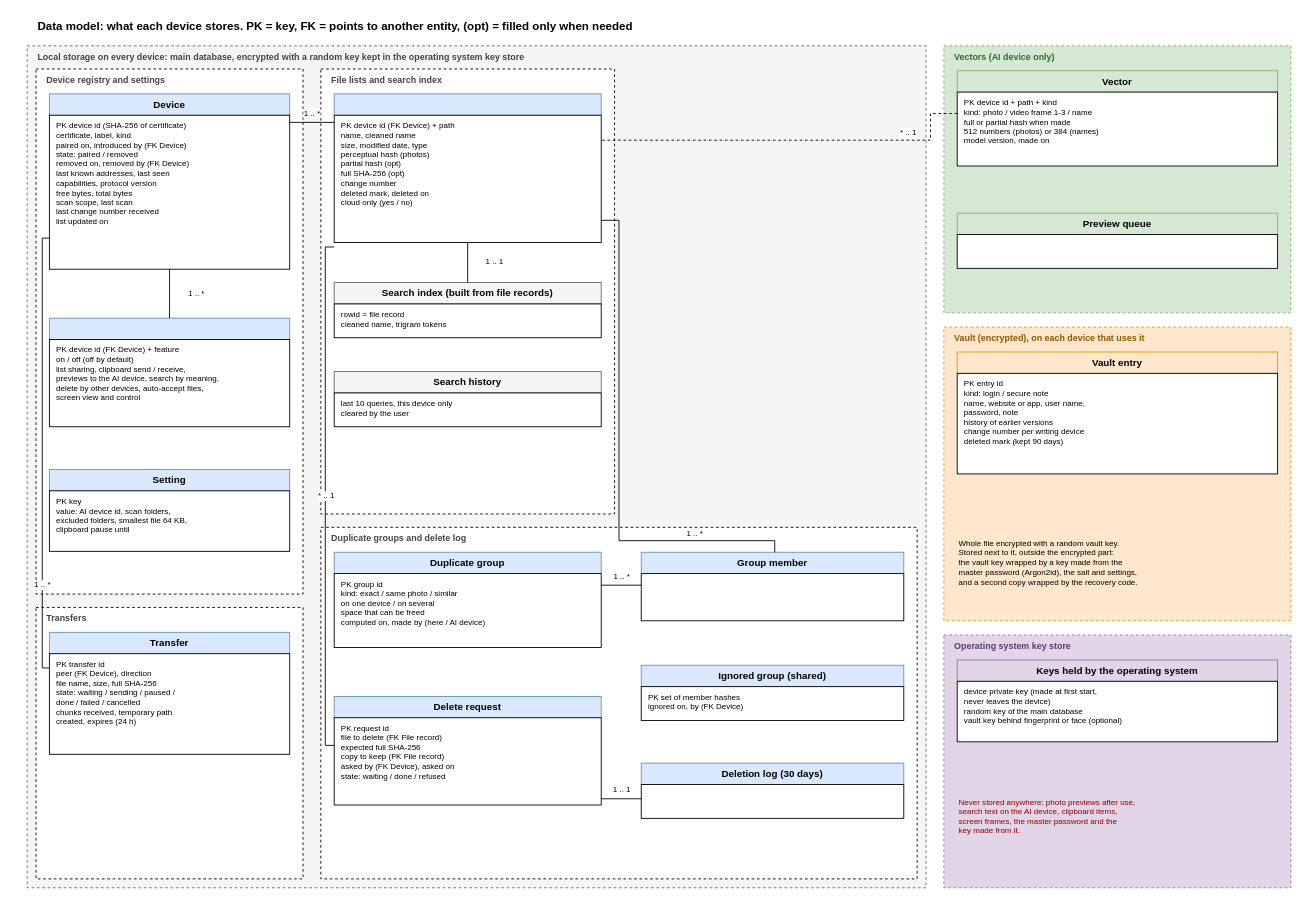
Some shapes in this 1307 by 903 pixel diagram are drawn without their labels. Here are the shapes that lost their labels. From the top down, the centre of each, then its label:
At point 467,104: "File record".
At point 1117,251: "device id (FK Device) + path waiting because the device is off".
At point 169,328: "Feature switch".
At point 772,597: "PK group id (FK) + device id + path FK File record suggested to keep (yes / no)".
At point 772,801: "what, when, asked by which device which copy was kept".
